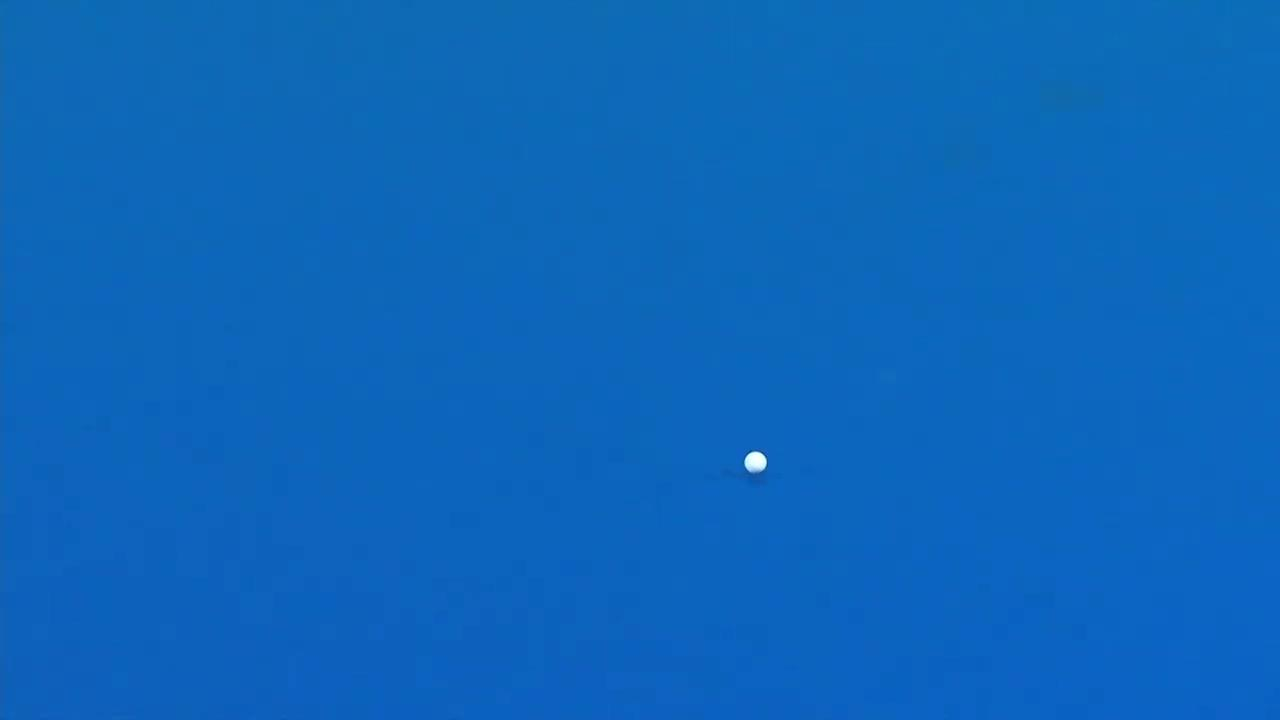ball: (730, 448, 782, 483)
